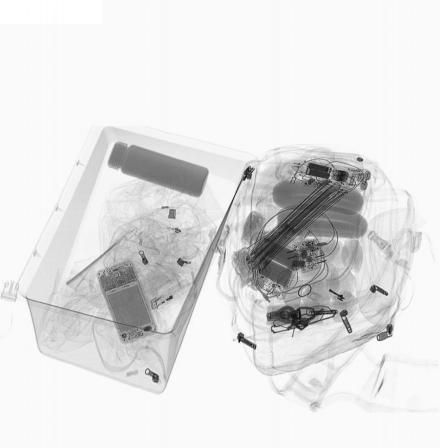Lighter: (147, 277, 194, 312)
